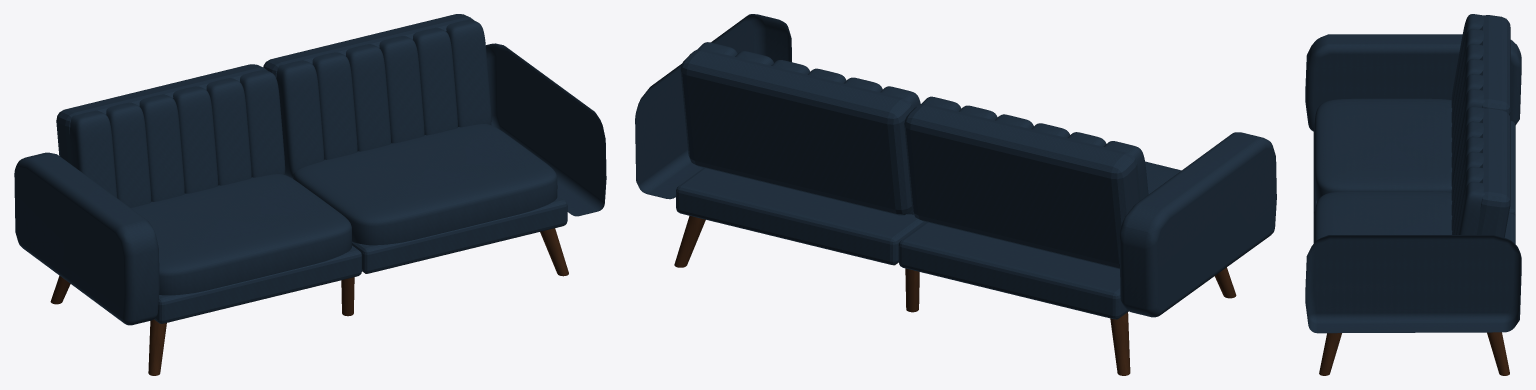
File: novogratz-brittany-futon.glb
The picture shows the model from 3 angles, left to right: view 1: azimuth 30°, elevation 25°; view 2: azimuth 150°, elevation 25°; view 3: azimuth 270°, elevation 25°; orthographic projection. The views are drawn at different scales.
Visible parts, largest first — view 1: Seat cushion.001, Seat cushion, Rounded arm -1, Rounded arm 1, Seat base half.001, Seat base half, Vertical tufted back channel.006, Vertical tufted back channel.011, Vertical tufted back channel.005, Vertical tufted back channel.003, Vertical tufted back channel.004, Vertical tufted back channel.007 (+11 smaller); view 2: Split reclining back foundation.001, Split reclining back foundation, Rounded arm -1, Seat base half.001, Seat base half, Rounded arm 1, Splayed oak leg.001, Splayed oak leg.003, Vertical tufted back channel, Seat cushion, Central support.001; view 3: Rounded arm 1, Seat cushion, Rounded arm -1, Seat cushion.001, Split reclining back foundation.001, Split reclining back foundation, Vertical tufted back channel.011, Seat base half, Vertical tufted back channel.005, Splayed oak leg.003, Splayed oak leg.002, Vertical tufted back channel.006 (+10 smaller).
Boxes of the visible parts, x1,y1,x2,y2 form: Seat cushion.001: [293, 124, 557, 245]; Seat cushion: [131, 174, 351, 295]; Rounded arm -1: [14, 152, 159, 325]; Rounded arm 1: [486, 43, 606, 216]; Seat base half.001: [352, 195, 567, 273]; Seat base half: [154, 245, 361, 323]; Vertical tufted back channel.006: [276, 60, 324, 178]; Vertical tufted back channel.011: [446, 19, 491, 127]; Vertical tufted back channel.005: [240, 69, 285, 177]; Vertical tufted back channel.003: [173, 86, 218, 193]; Vertical tufted back channel.004: [206, 78, 251, 185]; Vertical tufted back channel.007: [312, 52, 357, 159]; Split reclining back foundation.001: [680, 49, 913, 215]; Split reclining back foundation: [904, 104, 1140, 269]; Rounded arm -1: [1119, 132, 1276, 317]; Seat base half.001: [676, 168, 925, 264]; Seat base half: [898, 222, 1128, 319]; Rounded arm 1: [635, 14, 791, 199]; Splayed oak leg.001: [1110, 312, 1130, 375]; Splayed oak leg.003: [674, 215, 705, 267]; Vertical tufted back channel: [1104, 141, 1148, 199]; Seat cushion: [1145, 161, 1181, 194]; Central support.001: [905, 268, 919, 312]; Rounded arm 1: [1305, 235, 1521, 333]; Seat cushion: [1314, 98, 1451, 201]; Rounded arm -1: [1305, 34, 1521, 131]; Seat cushion.001: [1314, 191, 1452, 241]; Split reclining back foundation.001: [1476, 107, 1510, 237]; Split reclining back foundation: [1479, 15, 1510, 115]; Vertical tufted back channel.011: [1457, 182, 1484, 234]; Seat base half: [1313, 121, 1515, 216]; Vertical tufted back channel.005: [1451, 89, 1484, 186]; Splayed oak leg.003: [1487, 332, 1509, 375]; Splayed oak leg.002: [1319, 333, 1341, 375]; Vertical tufted back channel.006: [1451, 106, 1484, 200].
Size of the model in its own units: 2.07 by 0.8001 by 0.8763.
Materials: 4 (2 with a texture image).
